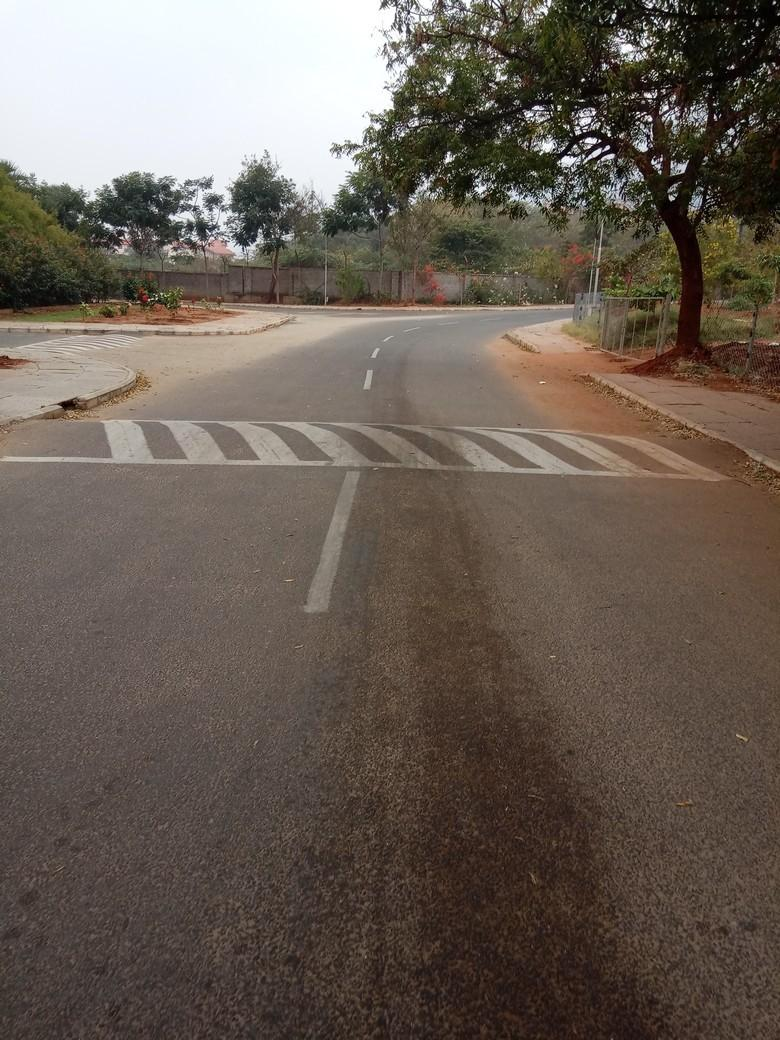speed-bump: (11, 414, 755, 472)
